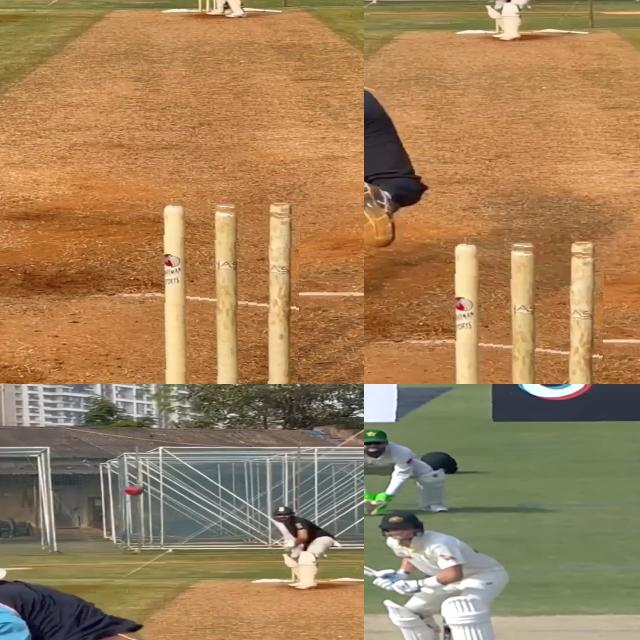Cricket ball: (122, 485, 147, 496)
Stumps: (157, 200, 299, 384), (451, 239, 603, 384), (195, 0, 215, 13)
